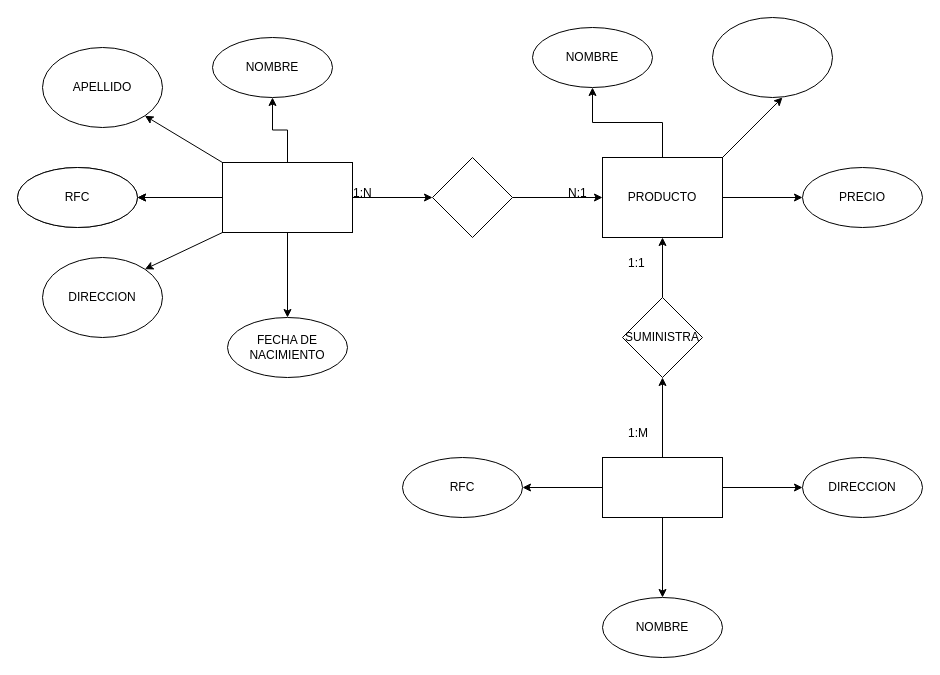
This 940x675 diagram has some shape labels left out. Each missing label, with the centre of its shape:
"CLIENTE" goes at pixel 287 197.
"CODIGO" goes at pixel 772 57.
"COMPRA" goes at pixel 472 197.
"PROVEEDOR" goes at pixel 662 487.
